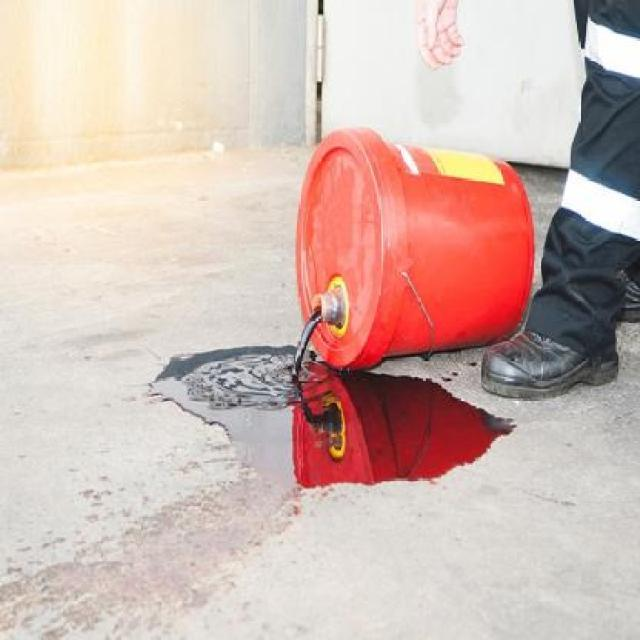spillage: (150, 346, 515, 536)
